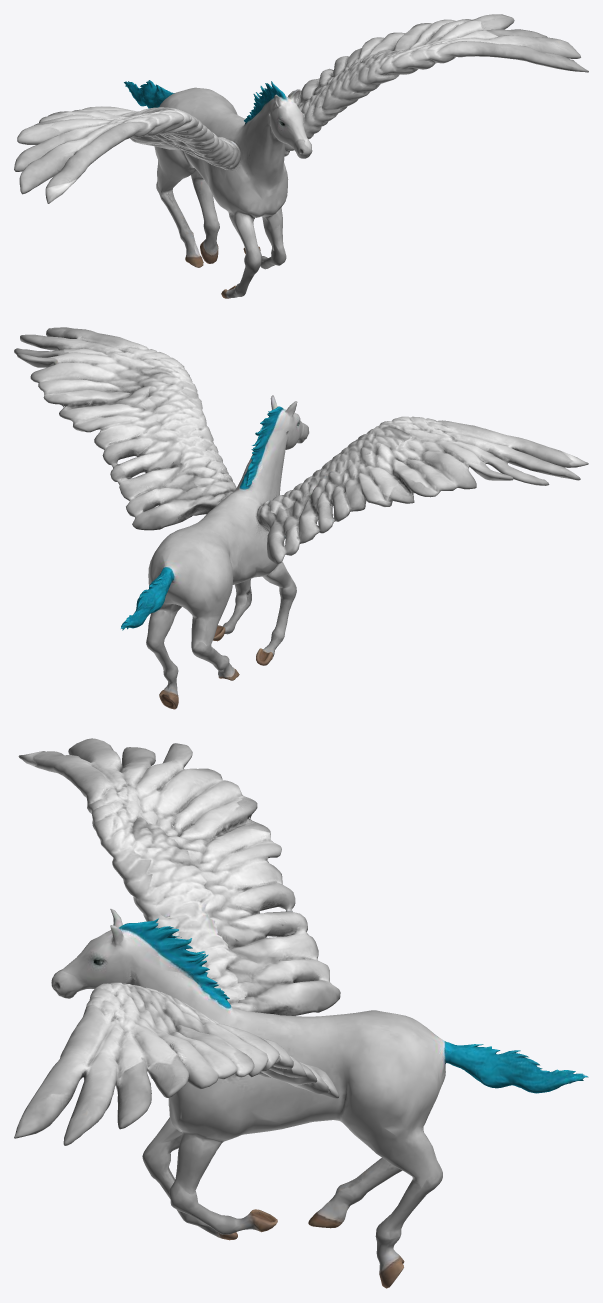
File: MZ4250 - Pegasus.glb
The picture shows the model from 3 angles, top to bottom: view 1: azimuth 30°, elevation 25°; view 2: azimuth 150°, elevation 25°; view 3: azimuth 270°, elevation 25°; orthographic projection. The views are drawn at different scales.
Visible parts, largest first — view 1: Pegasus Updated.001; view 2: Pegasus Updated.001; view 3: Pegasus Updated.001.
Boxes of the visible parts, x1,y1,x2,y2 form: Pegasus Updated.001: (14,14,588,298); Pegasus Updated.001: (14,327,588,709); Pegasus Updated.001: (14,738,588,1288).
Size of the model in its own units: 189 by 83.31 by 115.
Materials: 1 (1 with a texture image).
